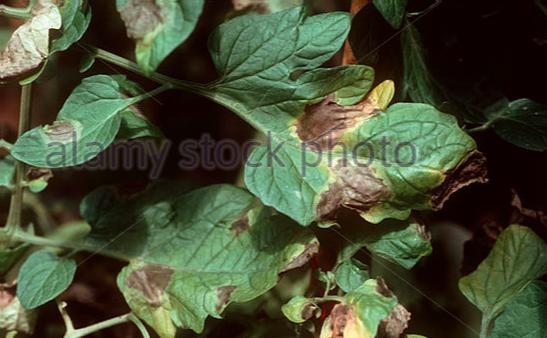Tomato leaf late blight: (201, 7, 468, 233), (75, 178, 321, 333), (5, 71, 133, 182), (281, 258, 405, 338), (0, 0, 103, 78)
